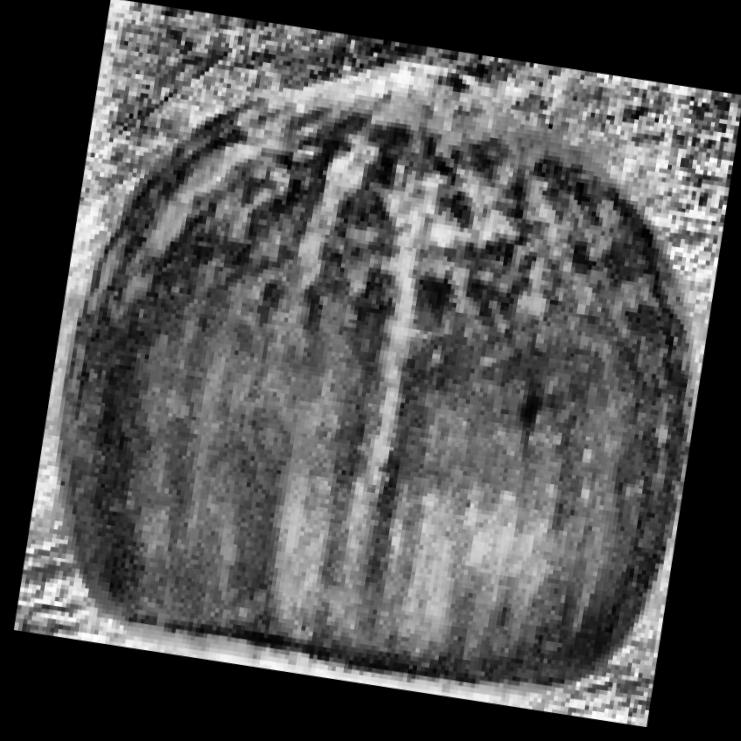qualityHazelnut: (4, 0, 741, 741)
